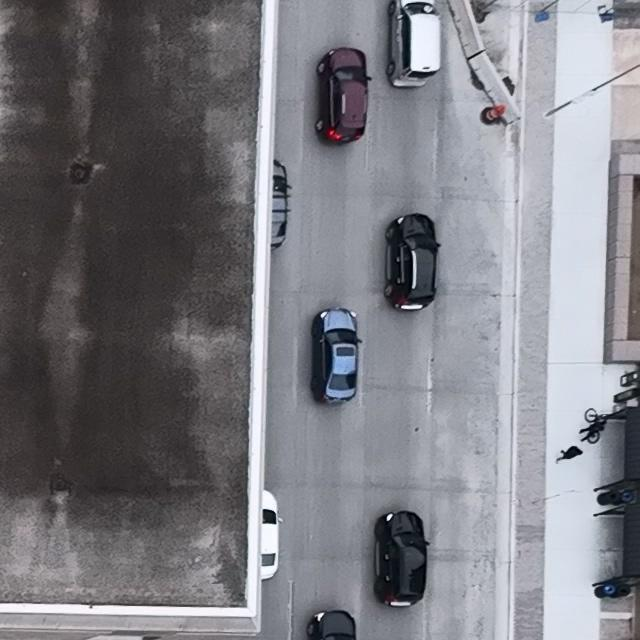car: (383, 213, 442, 314), (314, 46, 372, 145), (374, 511, 431, 608), (310, 307, 364, 404), (386, 0, 441, 87), (271, 161, 294, 249), (261, 489, 283, 579), (306, 611, 356, 640)
